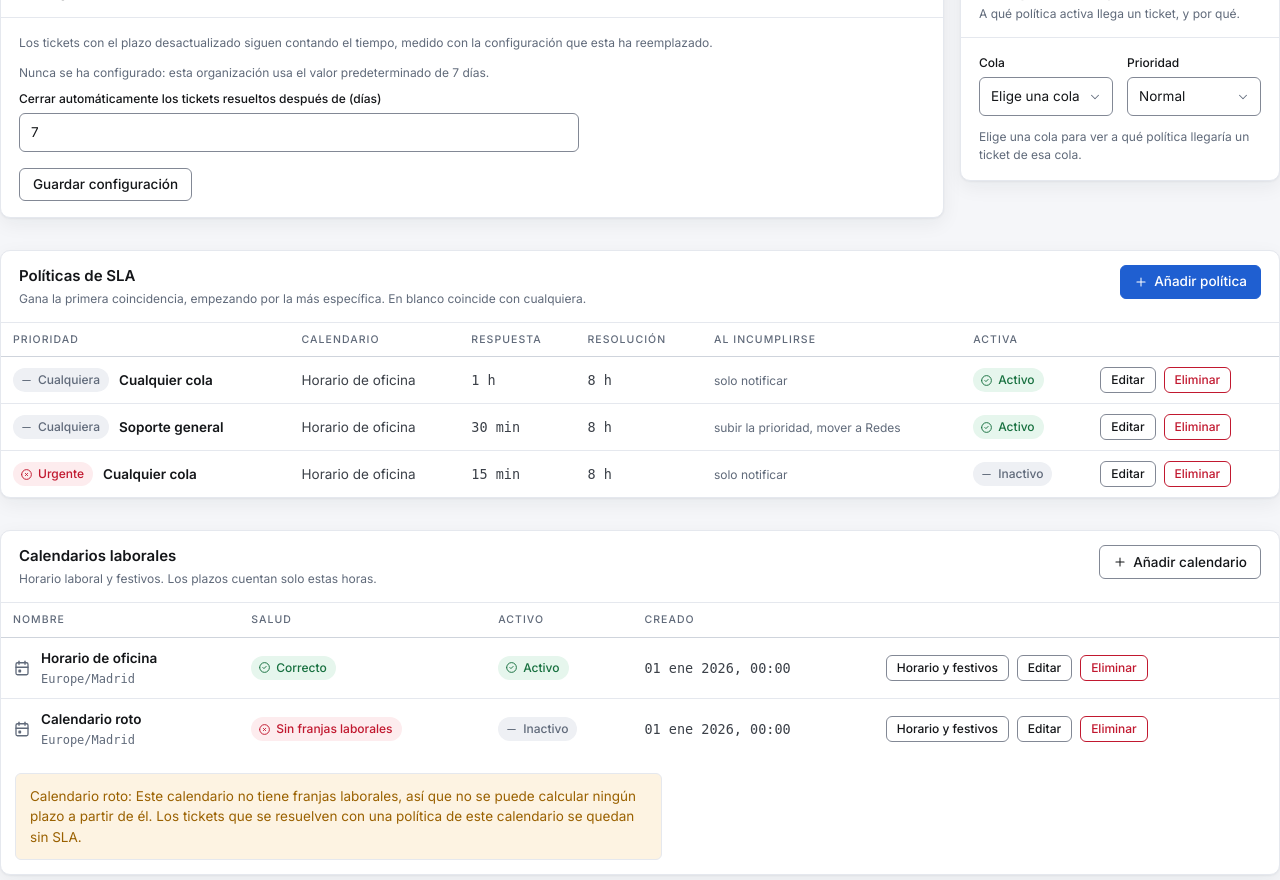
a calendar's hours and holidays in Spanish › says a calendar with no windows cannot produce a deadline, and an unsaved edit
(page scrolled)
Click the button "Horario y festivos" in the row of "Correcto" at [947, 668], box [886, 655, 1009, 681]
(page scrolled)
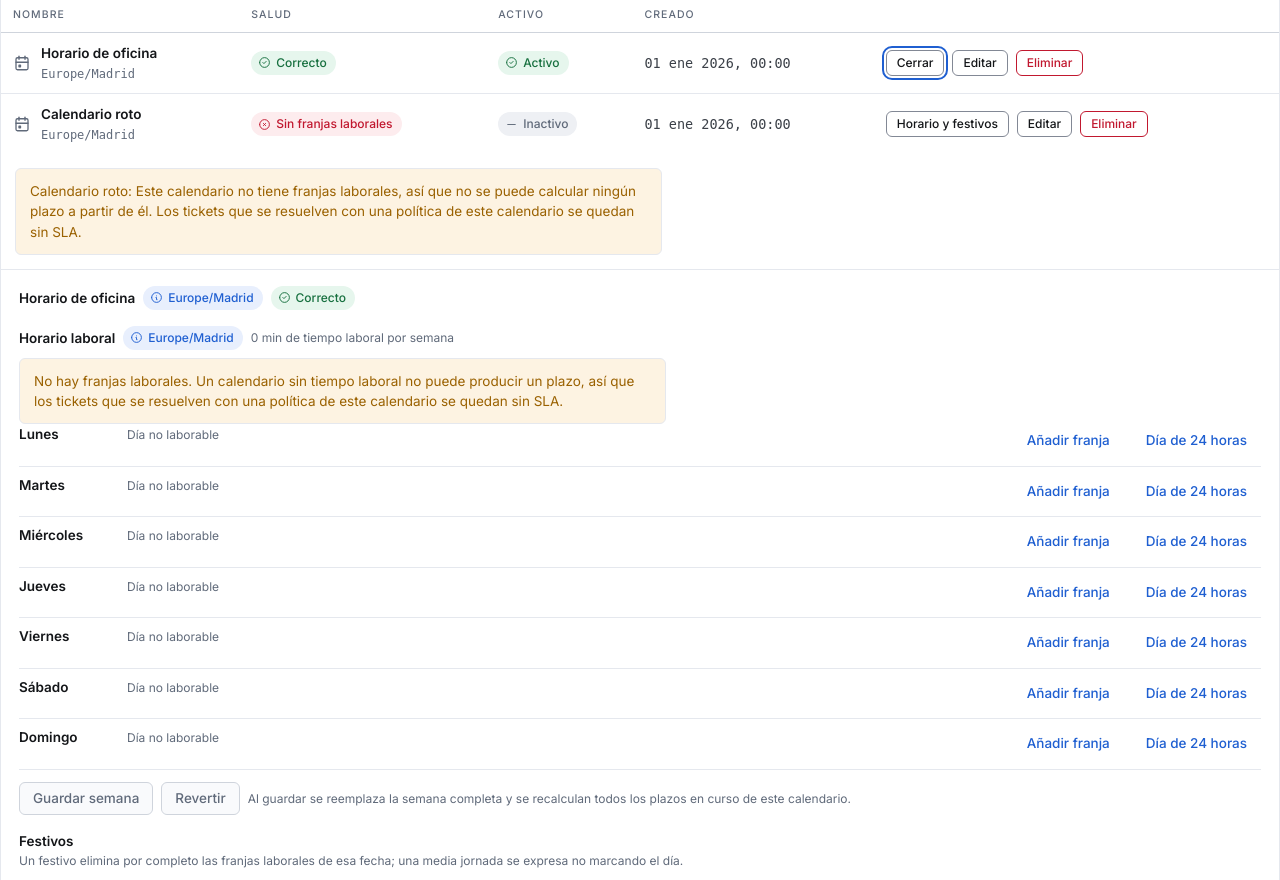
Expected: the heading "Horario laboral" is shown, [19, 328, 115, 348]
Expected: the text "No hay franjas laborales. Un calendario sin tiempo laboral" is shown, [34, 373, 634, 409]
Click the button "Añadir franja" in the row of "Lunes" at [1068, 441], box [1013, 424, 1124, 458]
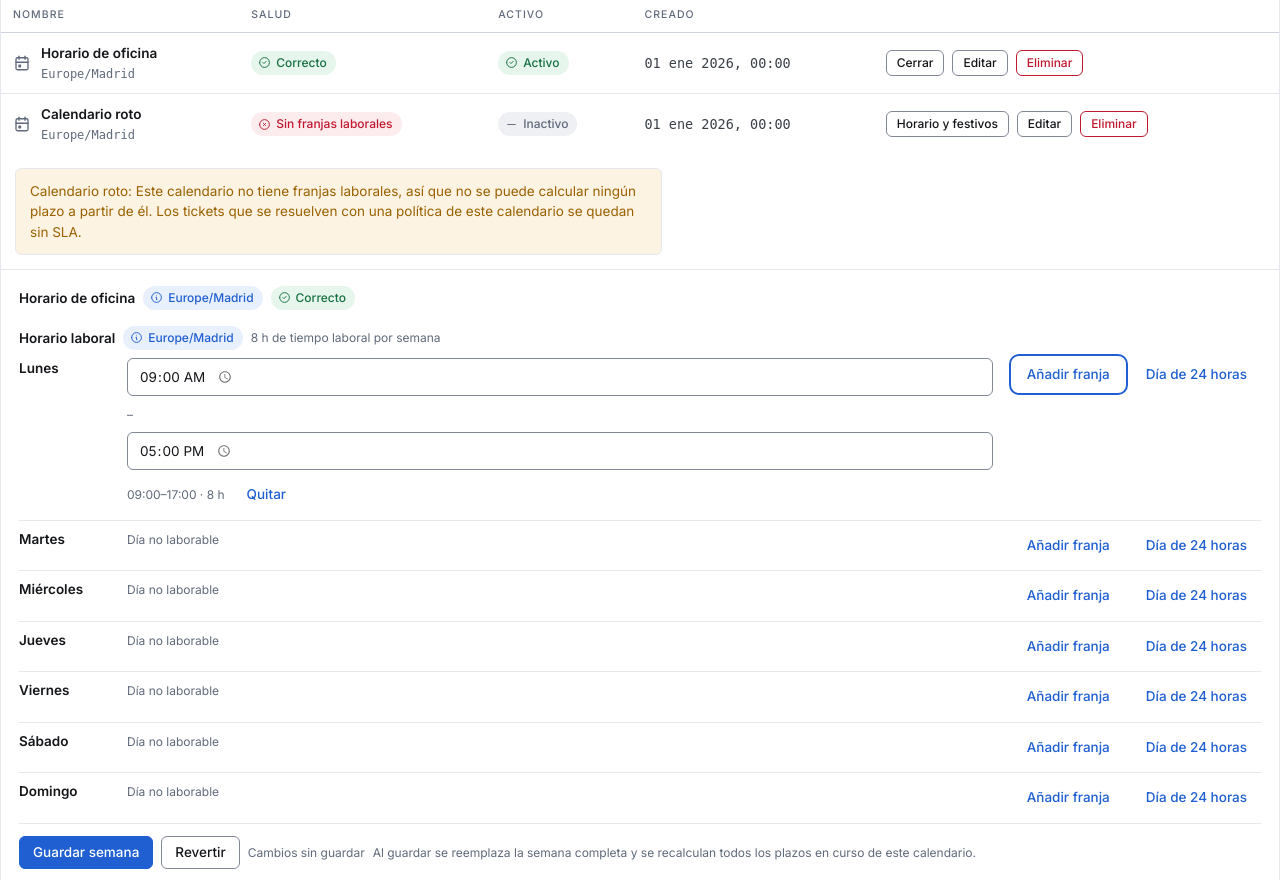
Expected: the text "Cambios sin guardar" is shown, [248, 844, 365, 862]
